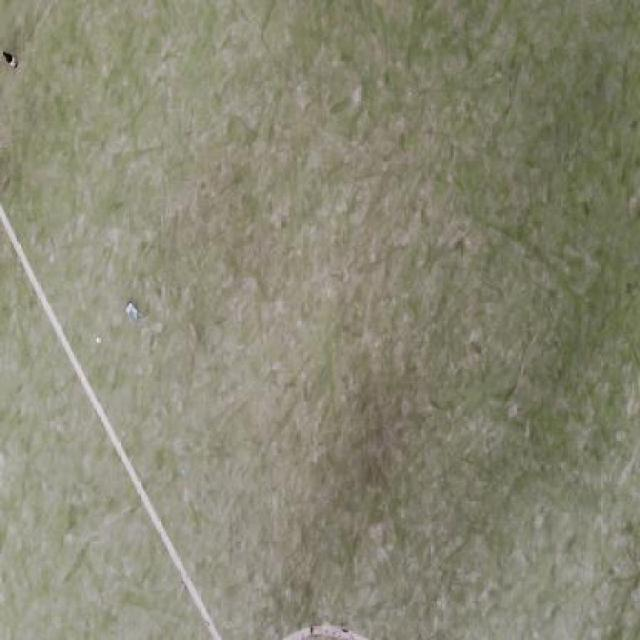Garbage: (124, 301, 139, 324), (3, 51, 18, 71), (96, 337, 99, 341), (182, 469, 185, 473)
